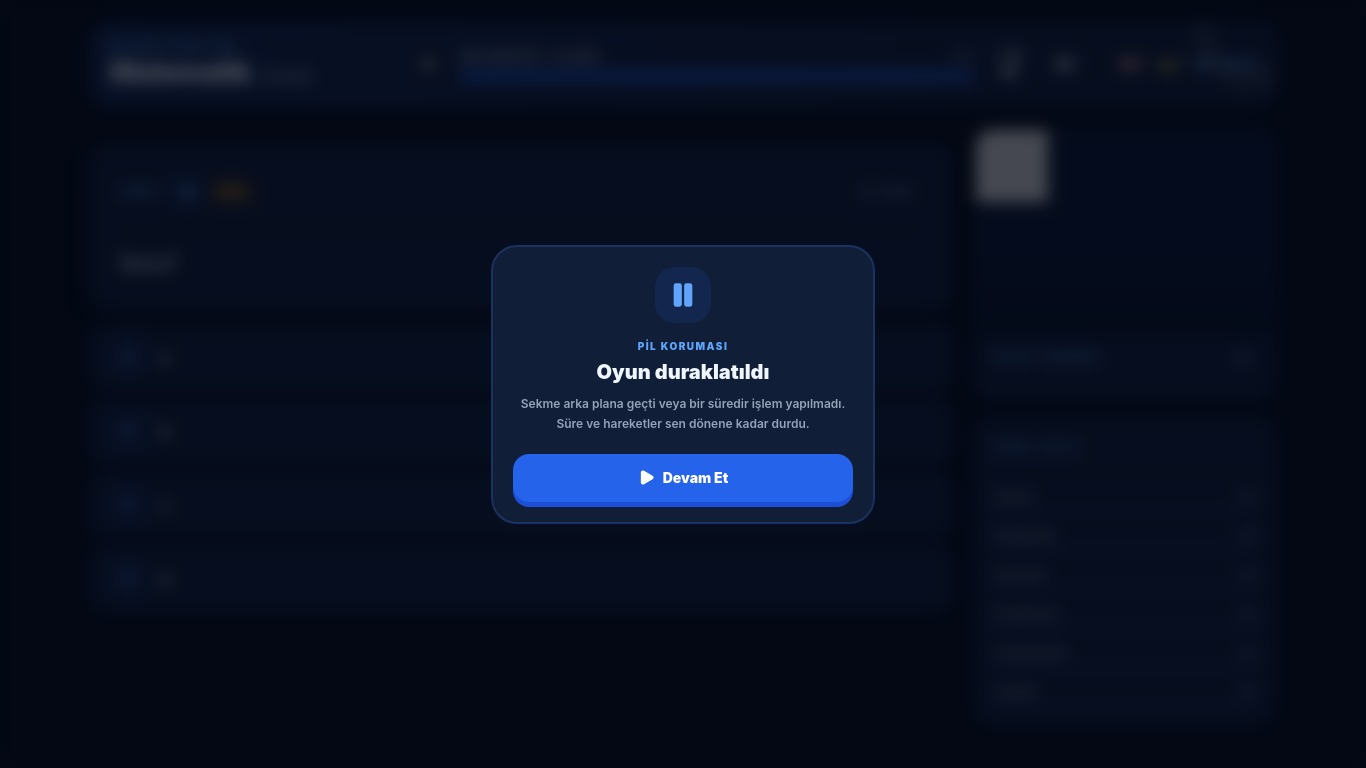
QuizEngine yerleşim › cevap gönderilmemiş süreli oyunda arka plandan Devam Et sayacı başlatır
The image size is (1366, 768).
Click the button "Devam Et".
click(683, 478)  # box [513, 454, 853, 502]
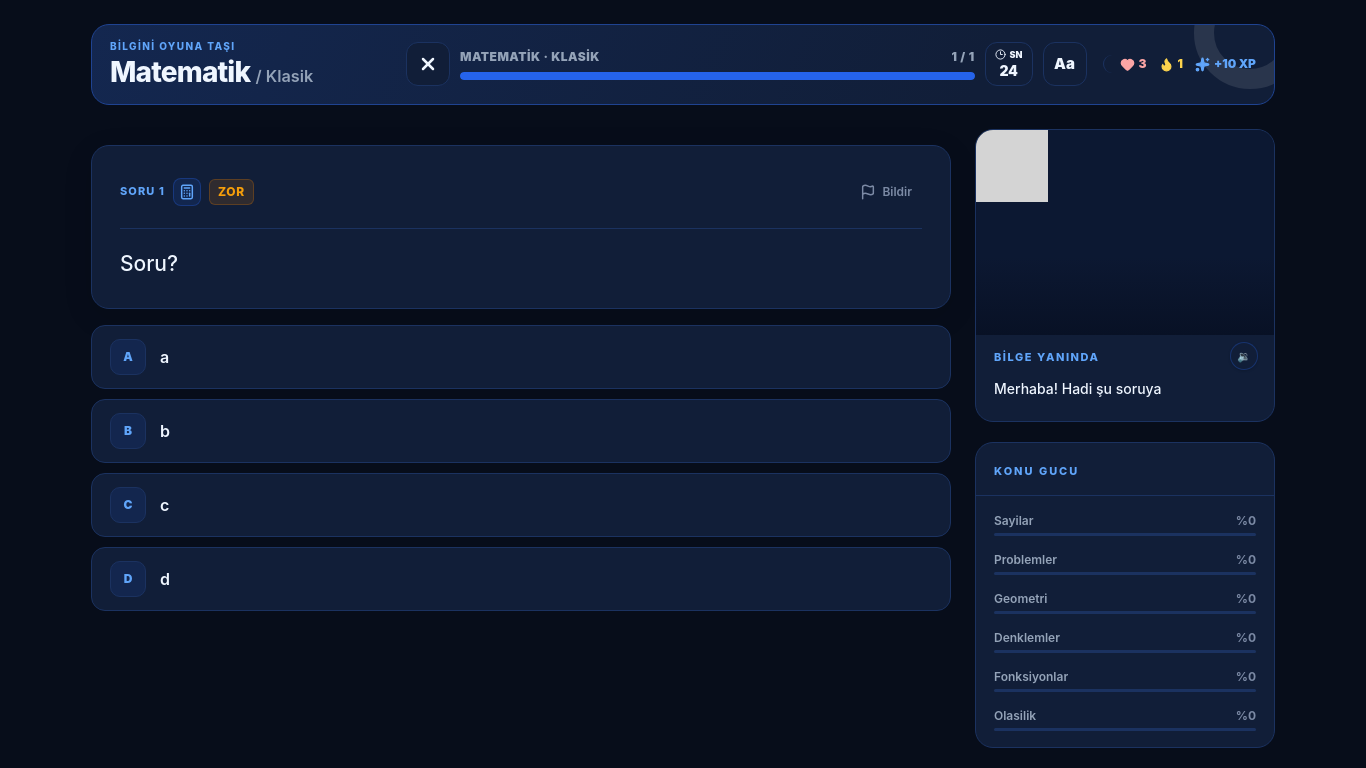
expect the heading "Oyun duraklatıldı" is gone: met
